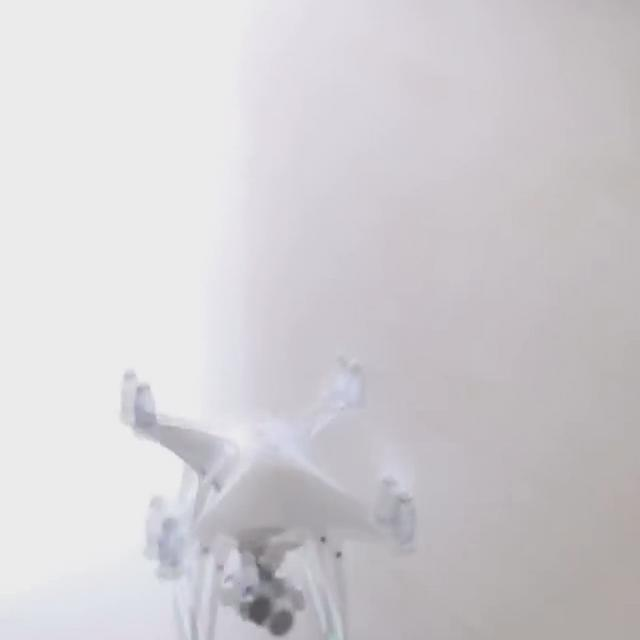drone: (102, 334, 438, 589)
